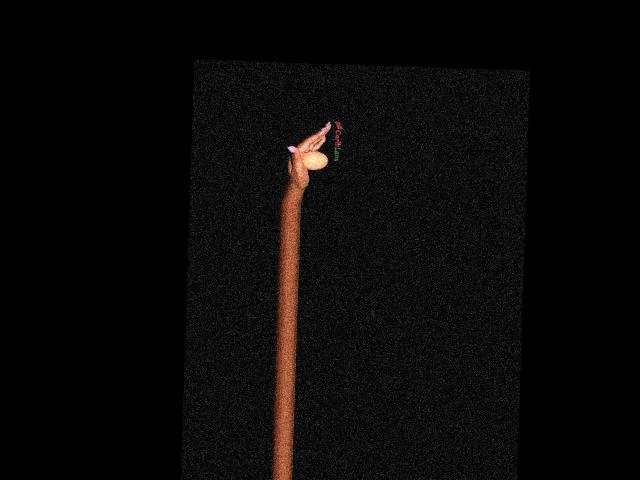egg: (301, 150, 328, 170)
